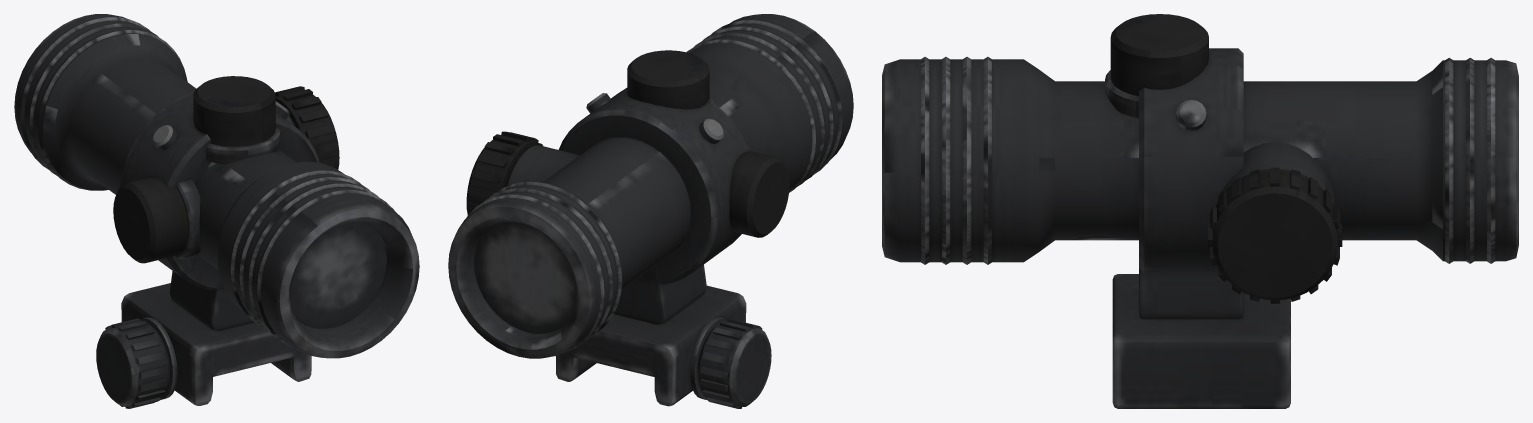
Rendered from scope_reddot.glb.
3 views of the same model, side by side, from view 1: azimuth 30°, elevation 25°; view 2: azimuth 150°, elevation 25°; view 3: azimuth 270°, elevation 25° (orthographic). The views are drawn at different scales.
Parts seen in each view (by area): view 1: body; view 2: body; view 3: body.
Boxes of the visible parts, x1,y1,x2,y2 form: body: (14,14,419,408); body: (448,14,853,408); body: (882,14,1518,408).
Size of the model in its own units: 0.061 by 0.0763 by 0.1215.
Materials: 3 (1 with a texture image).
